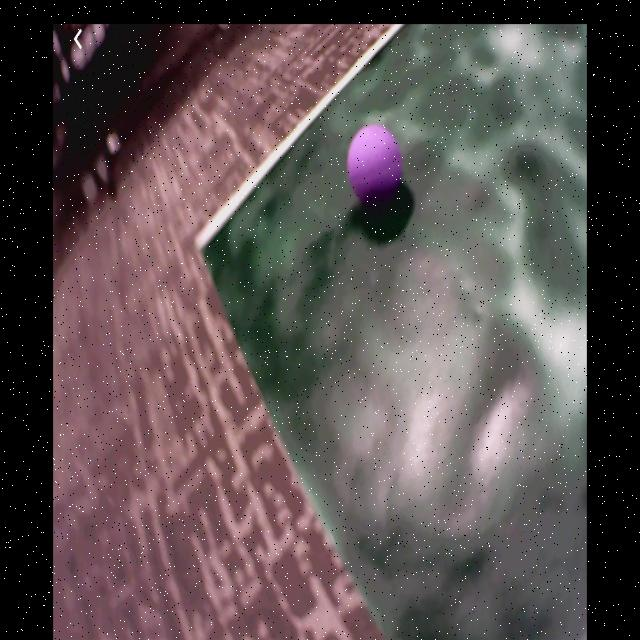ball: (349, 127, 402, 208)
